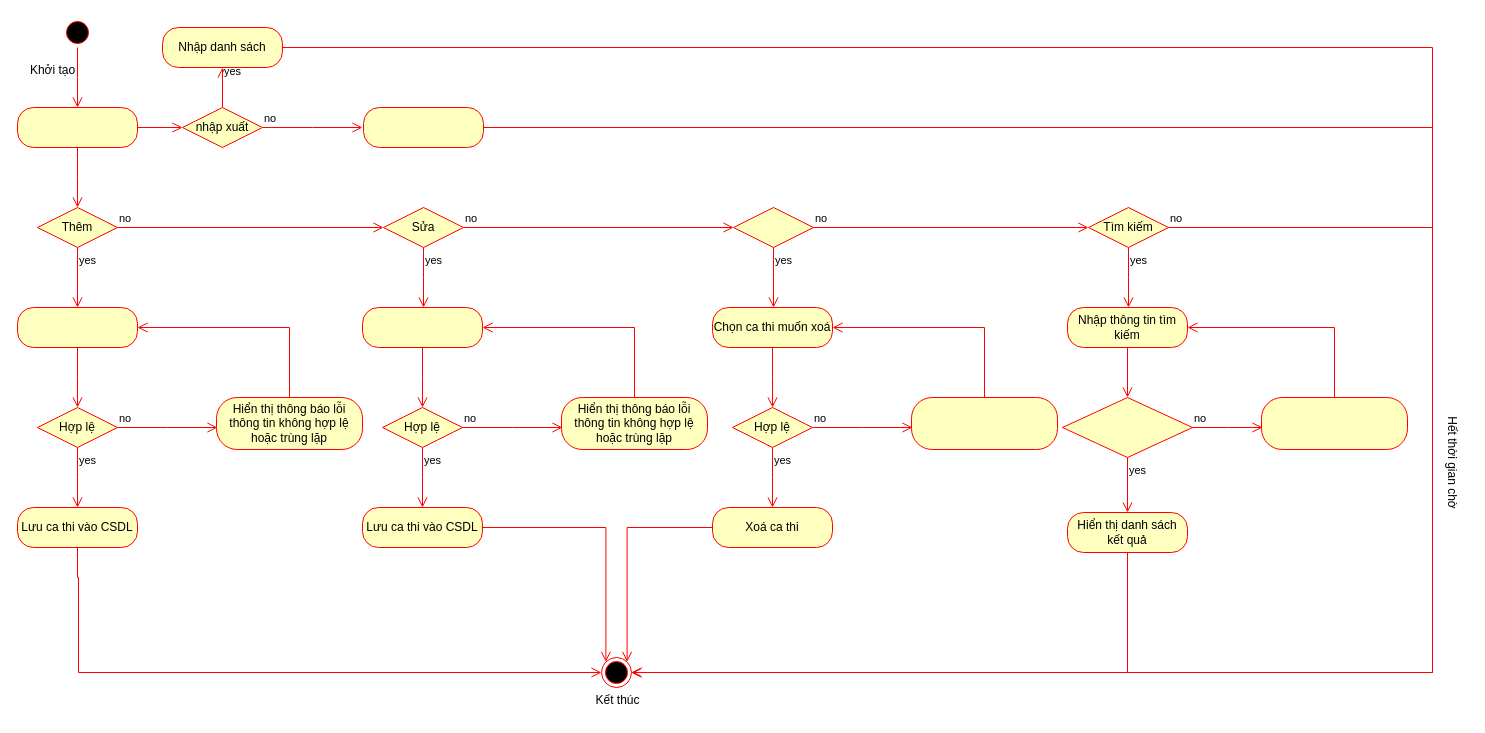
Image size: 1485x733. Some labels were removed from this diagram. Here are the shapes that lost their labels. From the top down, the centre of each, then its label:
At pixel 77 127: "danh sách ca thi".
At pixel 423 127: "Xuất danh sách".
At pixel 773 227: "Xoá".
At pixel 77 327: "Nhập thông tin ca thi".
At pixel 422 327: "Sửa đổi thông tin ca thi".
At pixel 984 423: "Hiển thị thông báo lỗi thông tin không hợp lệ".
At pixel 1127 427: "kiểm tra kết quả tồn tại".
At pixel 1334 423: "Hiển thị thông báo không có kết quả".
